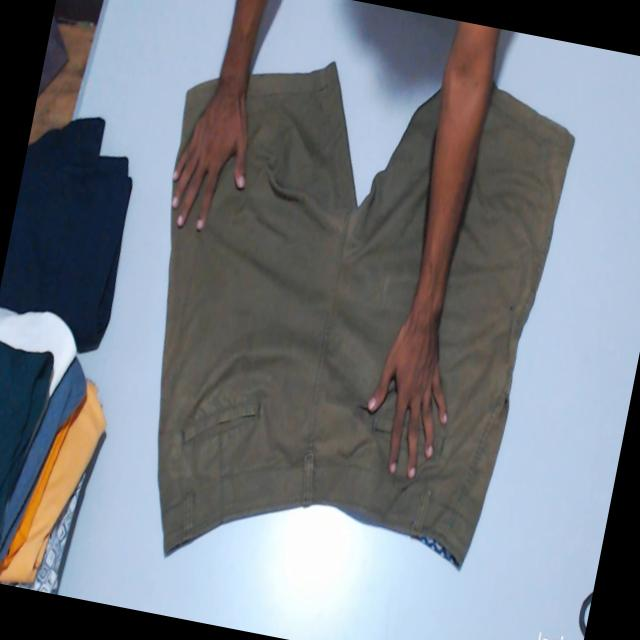new-garment: (158, 62, 574, 566), (158, 63, 574, 565), (178, 80, 219, 156)
